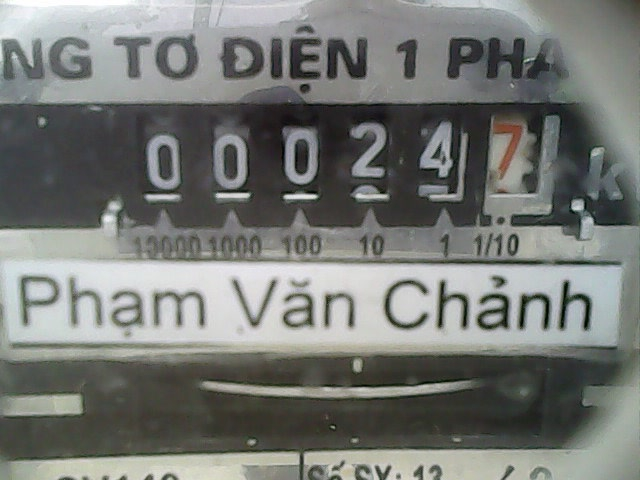phy_plate: (129, 101, 567, 235)
